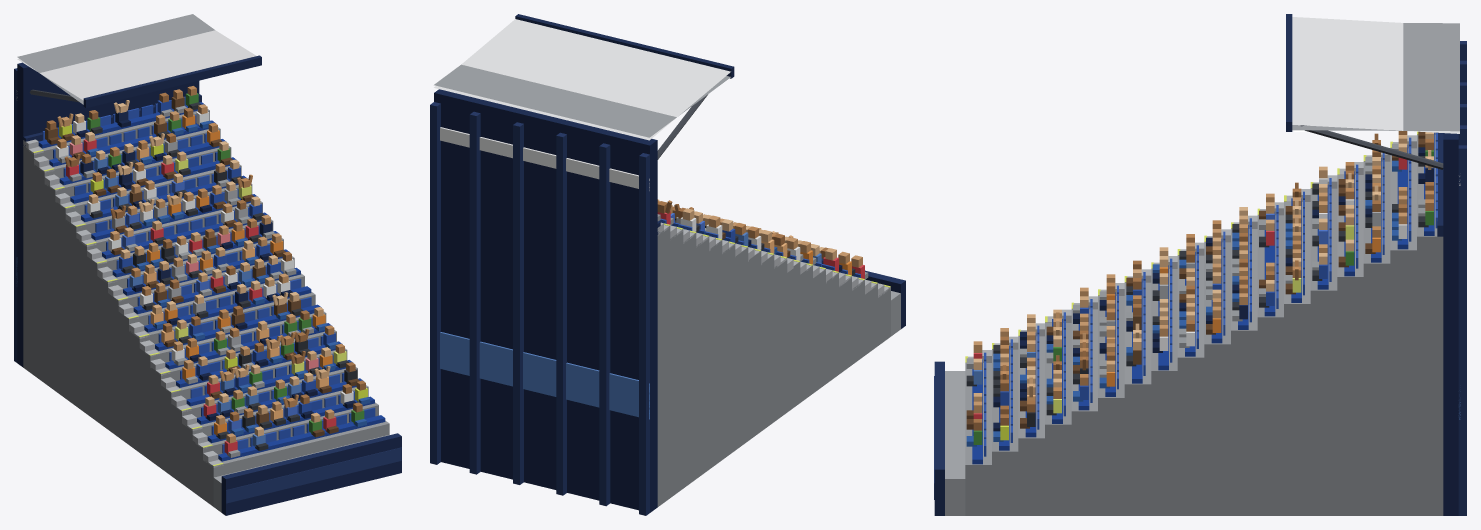
The model's file is Stand_w25_5.glb.
3 renders of one model, left to right at view 1: azimuth 30°, elevation 25°; view 2: azimuth 150°, elevation 25°; view 3: azimuth 270°, elevation 25°, orthographic. The views are drawn at different scales.
Parts seen in each view (by area): view 1: Stand_w25_5; view 2: Stand_w25_5; view 3: Stand_w25_5.
Boxes of the visible parts, x1,y1,x2,y2 form: Stand_w25_5: (14,14,401,515); Stand_w25_5: (430,14,905,515); Stand_w25_5: (934,14,1466,515).
Size of the model in its own units: 25 by 42.55 by 52.16.
Materials: 2 (1 with a texture image).
